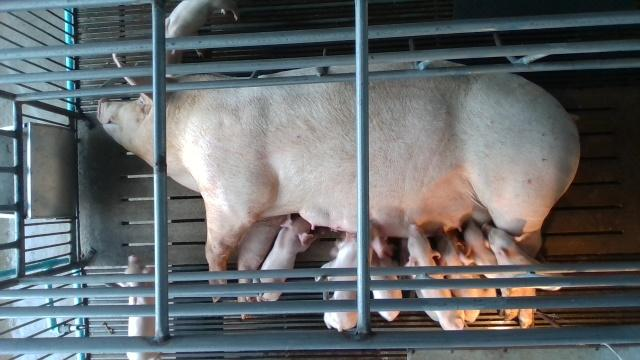piglet: (407, 222, 465, 331), (483, 223, 563, 291), (238, 215, 288, 319), (257, 218, 312, 301), (315, 232, 358, 333), (118, 255, 159, 360), (165, 0, 240, 56), (464, 221, 507, 316), (440, 233, 479, 321), (368, 224, 403, 321)
sow-sleep-lactate: (98, 56, 581, 321)
